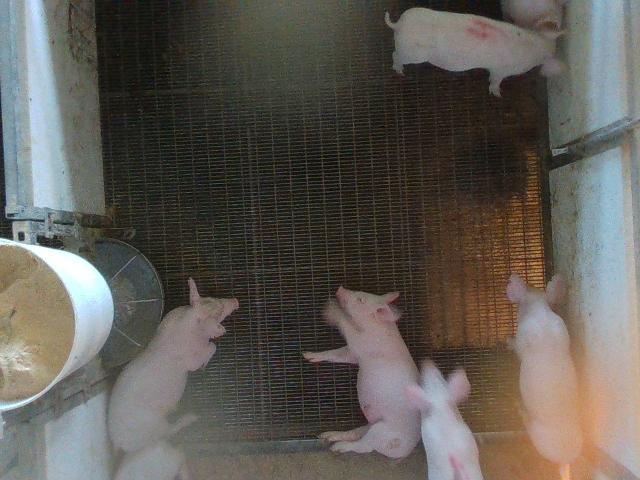pig-1: (304, 286, 421, 458)
pig-3: (406, 360, 481, 479)
pig-4: (385, 8, 564, 96)
